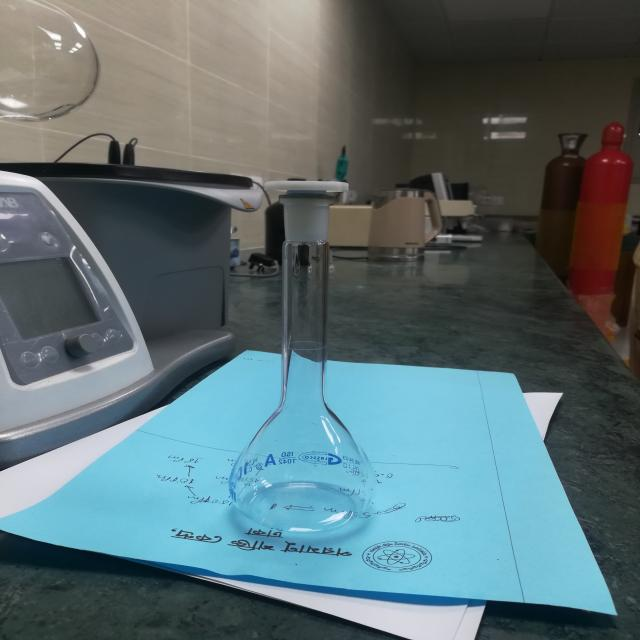Volumetric_Flask: (170, 133, 434, 560)
